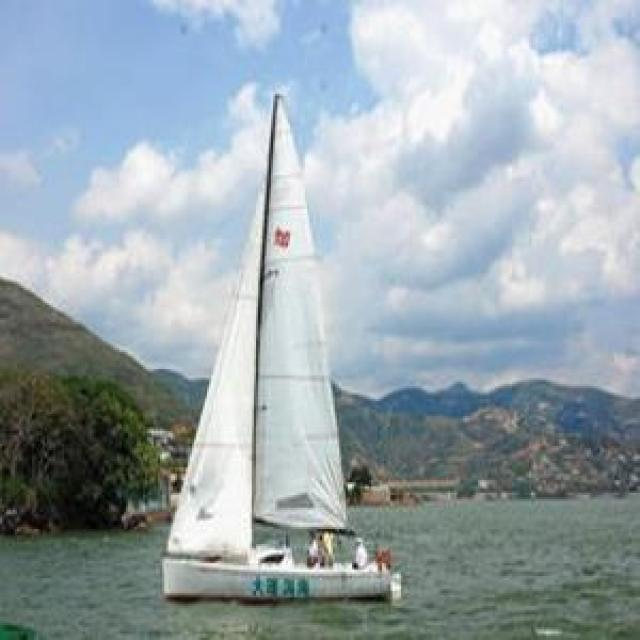sailboat: (166, 91, 410, 599)
